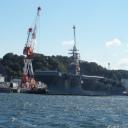Portanaves: (34, 44, 119, 97)
